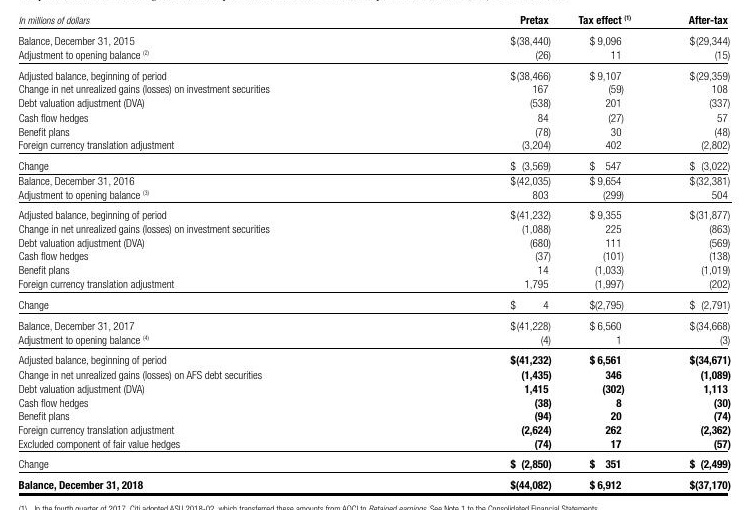table: (0, 0, 753, 510)
